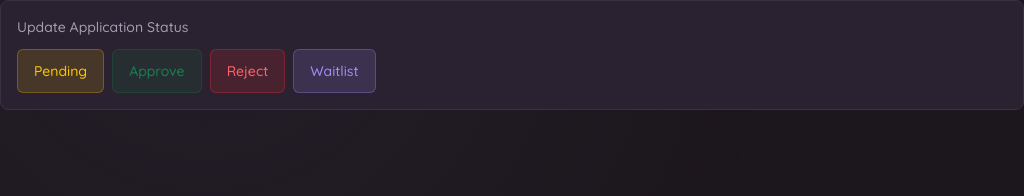
Test: StatusUpdateButtons — confirmation › does not mention an email when moving back to pending
The image size is (1024, 196).
Step 1. Click the button "Pending" → (61, 71), box x1=17 y1=49 x2=104 y2=93
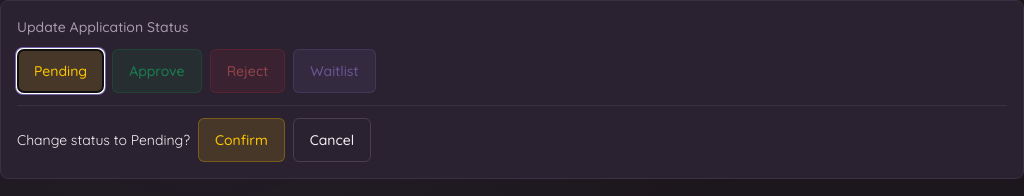
Result: the text "Change status to Pending?" is shown at x1=17 y1=130 x2=190 y2=150
